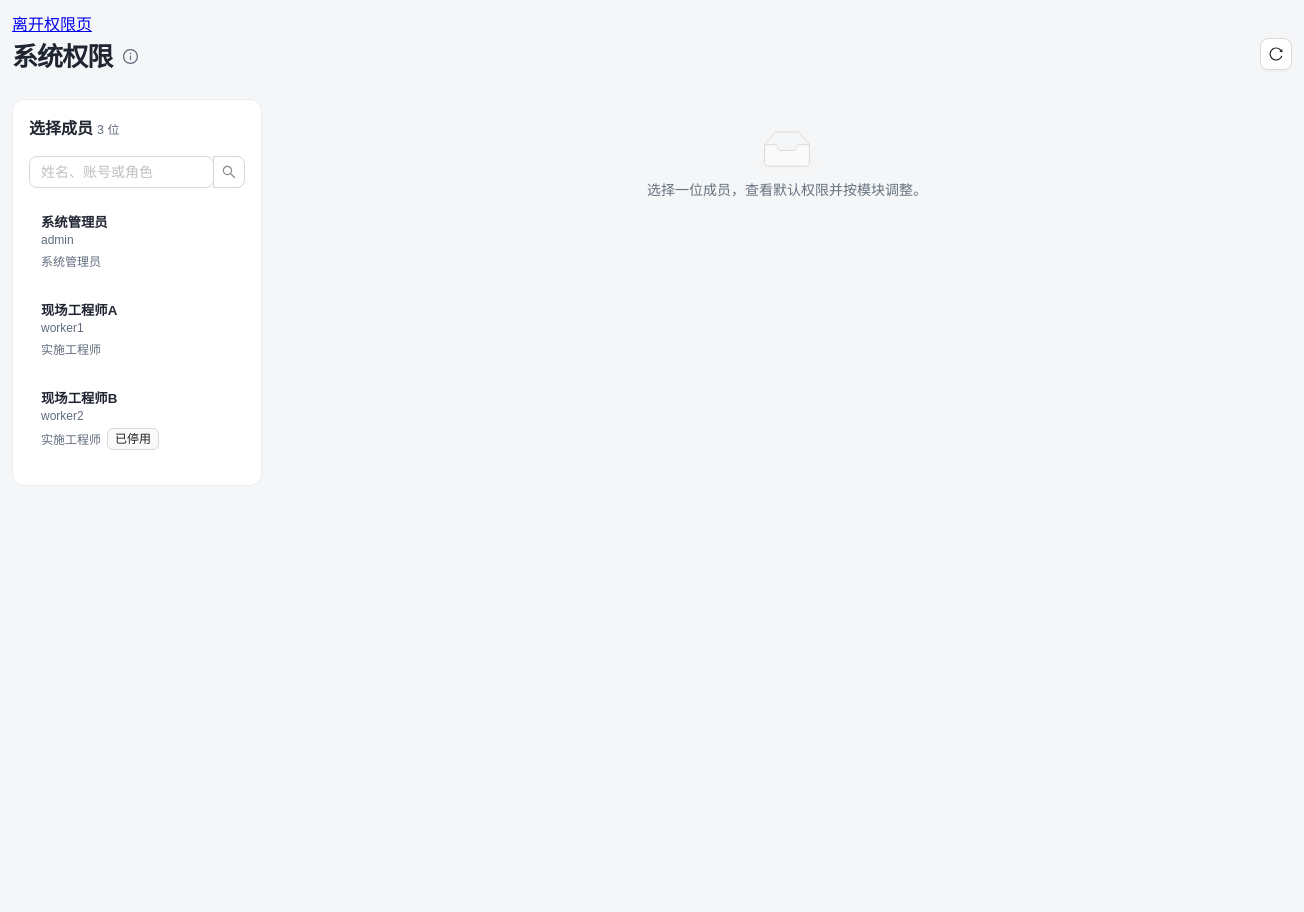
Test: saves all three states with the source version, retaining untouched historical settings
Click the button with aria-label "选择成员：现场工程师A".
click(137, 328)  # box left=29, top=288, right=245, bottom=369
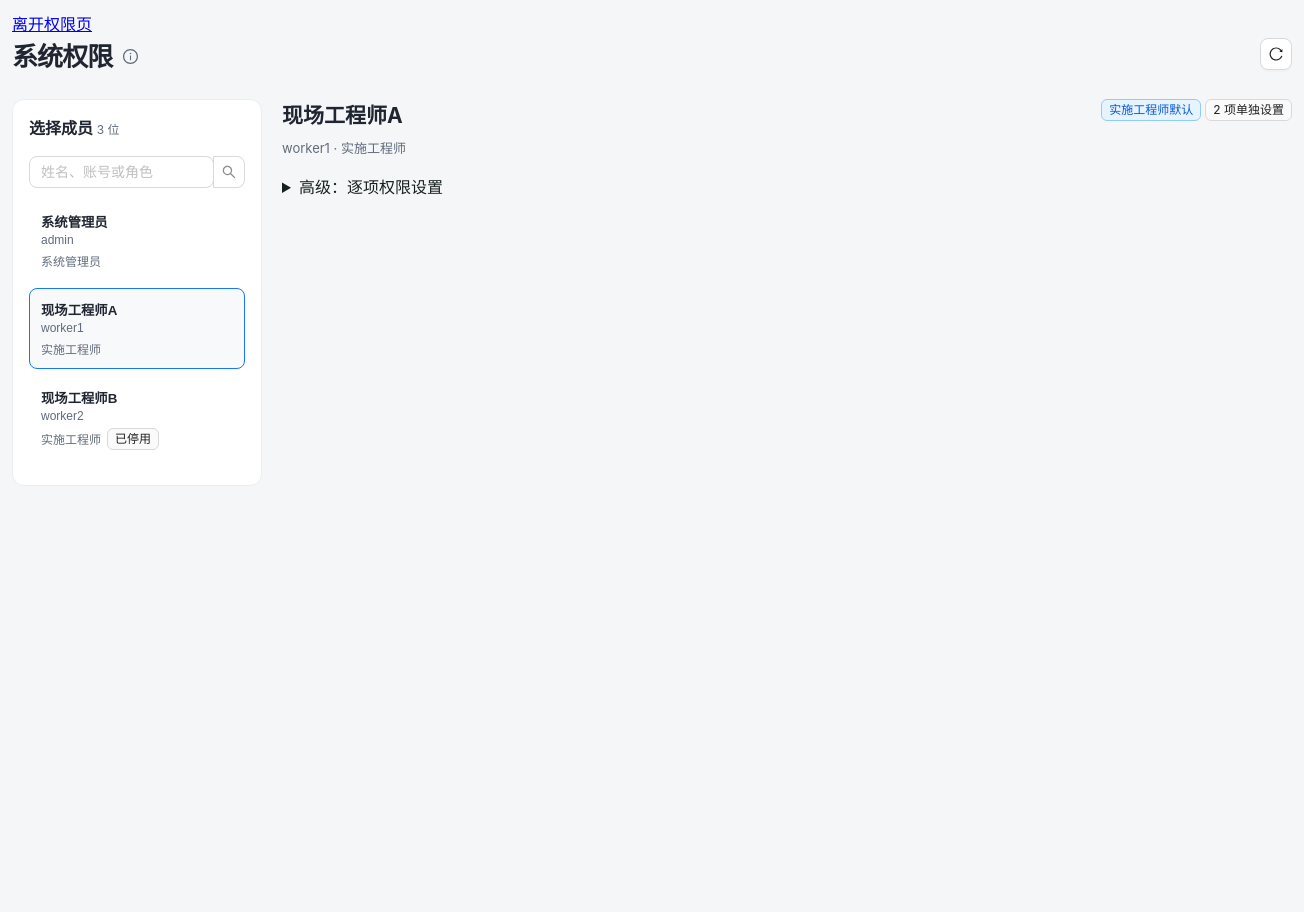
Expected: the heading "现场工程师A" is shown, left=282, top=99, right=406, bottom=133
Click the heading "高级：逐项权限设置".
click(371, 187)  # box left=299, top=177, right=443, bottom=197
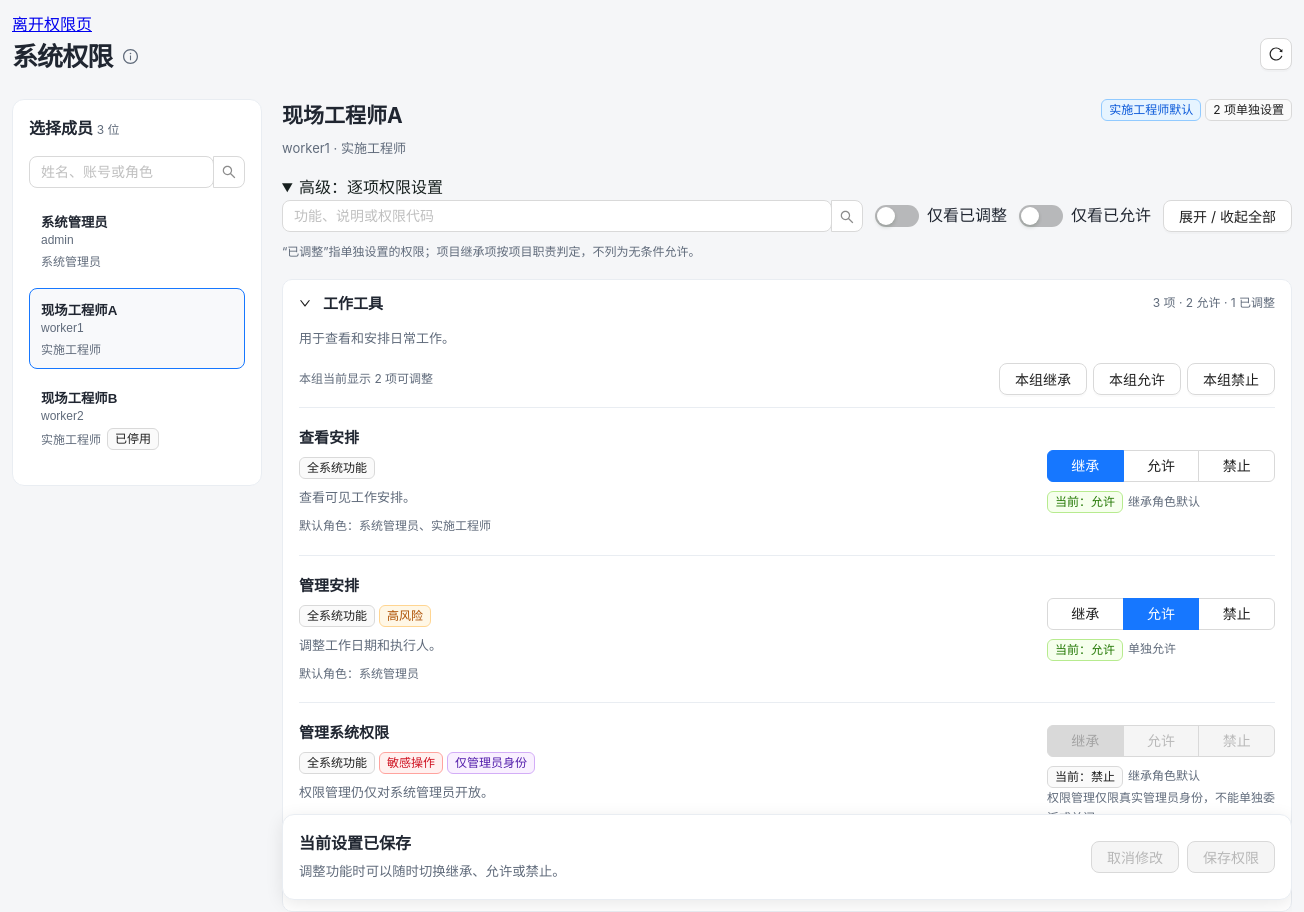
Click the 1st radio button labelled "禁止".
click(1237, 466)  # box left=1198, top=450, right=1275, bottom=482
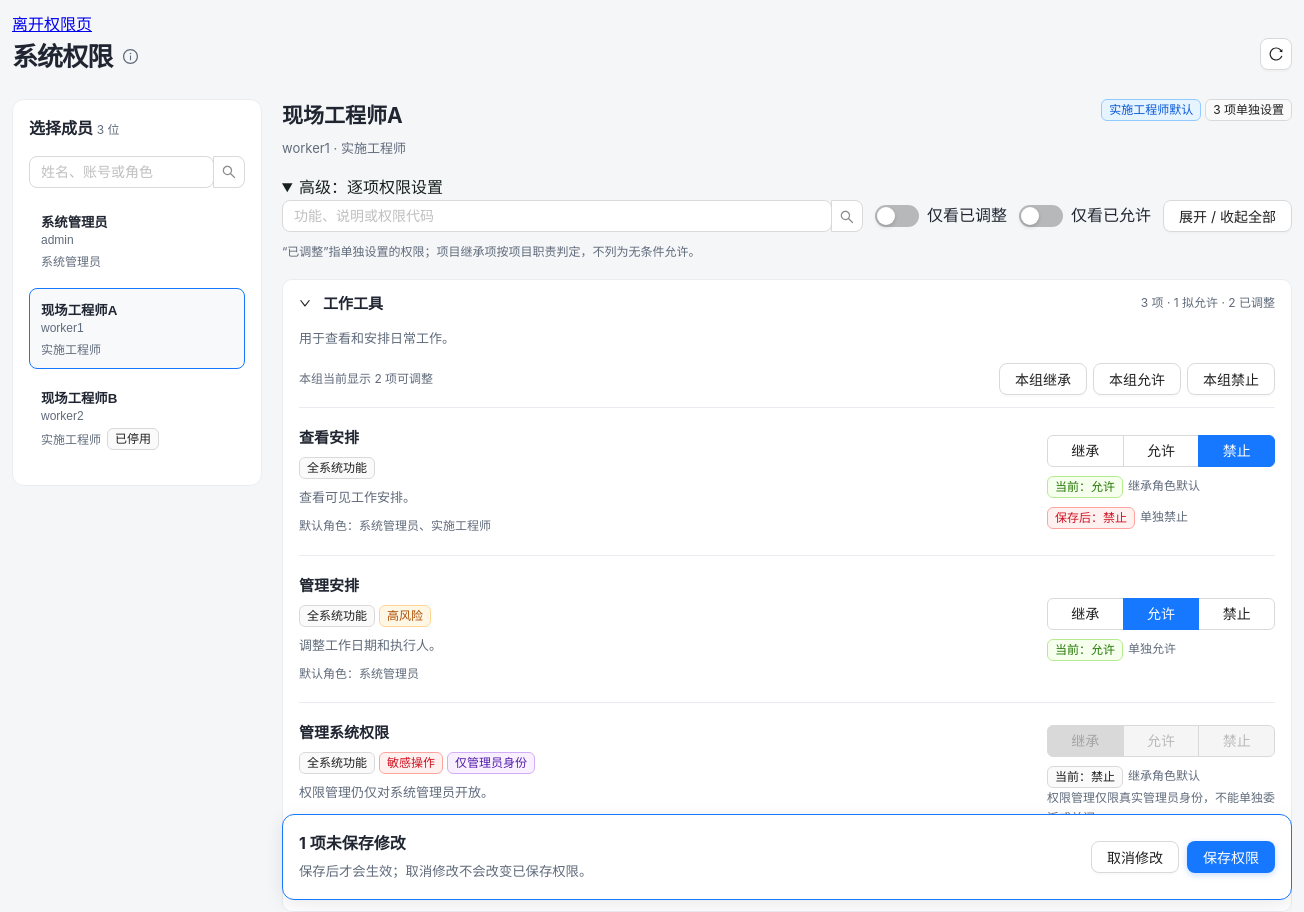
Click the radio button labelled "继承" in the row of "高风险".
click(1085, 614)  # box left=1047, top=598, right=1124, bottom=630
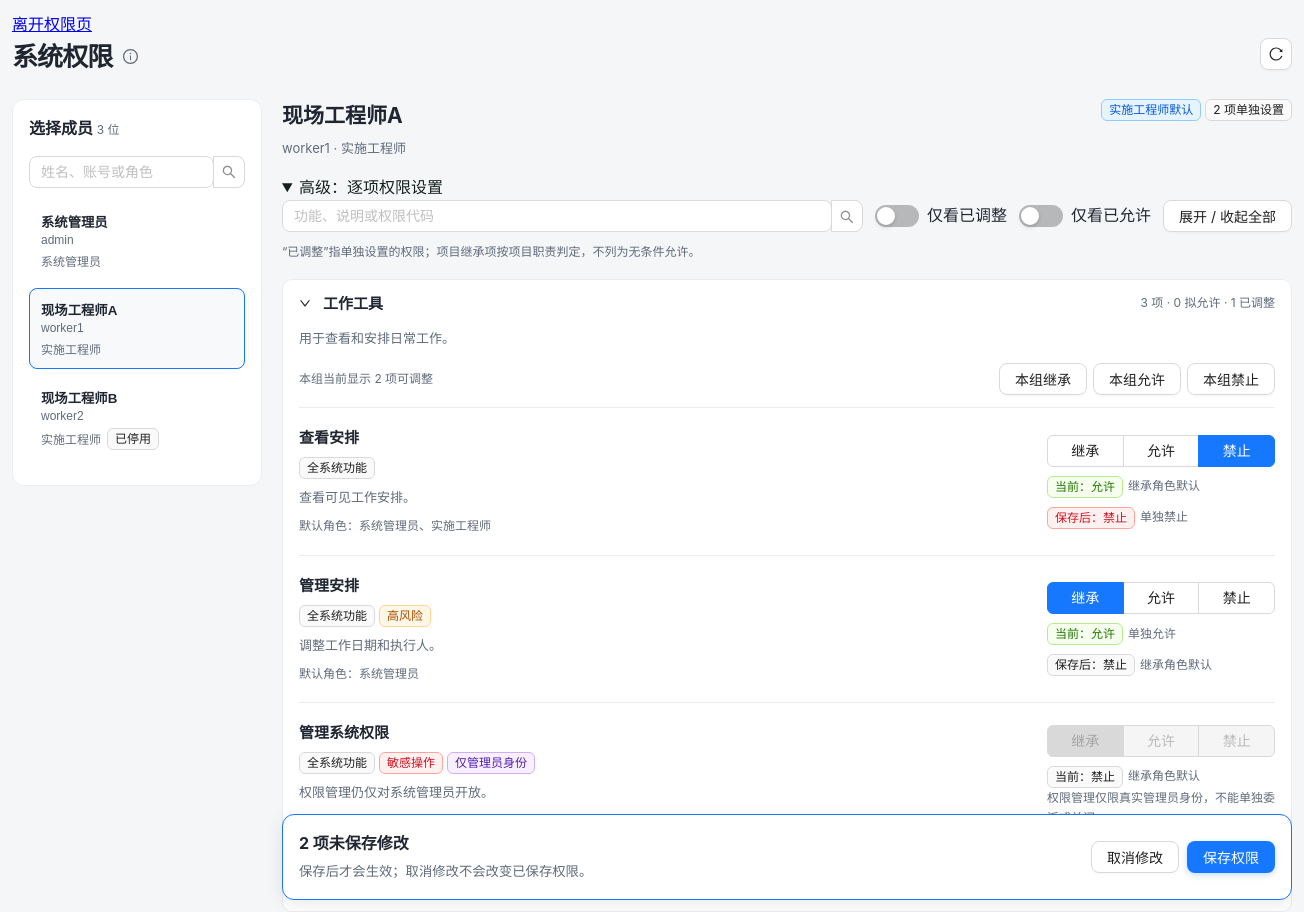
Expected: the element named "权限：查看安排" shows "当前：允许", left=299, top=408, right=1275, bottom=556
Expected: the element named "权限：查看安排" shows "保存后：禁止", left=299, top=408, right=1275, bottom=556
Expected: the text "2 项未保存修改" is shown, left=299, top=833, right=409, bottom=853
Click the button "保存权限".
click(1231, 857)  # box left=1187, top=841, right=1275, bottom=873
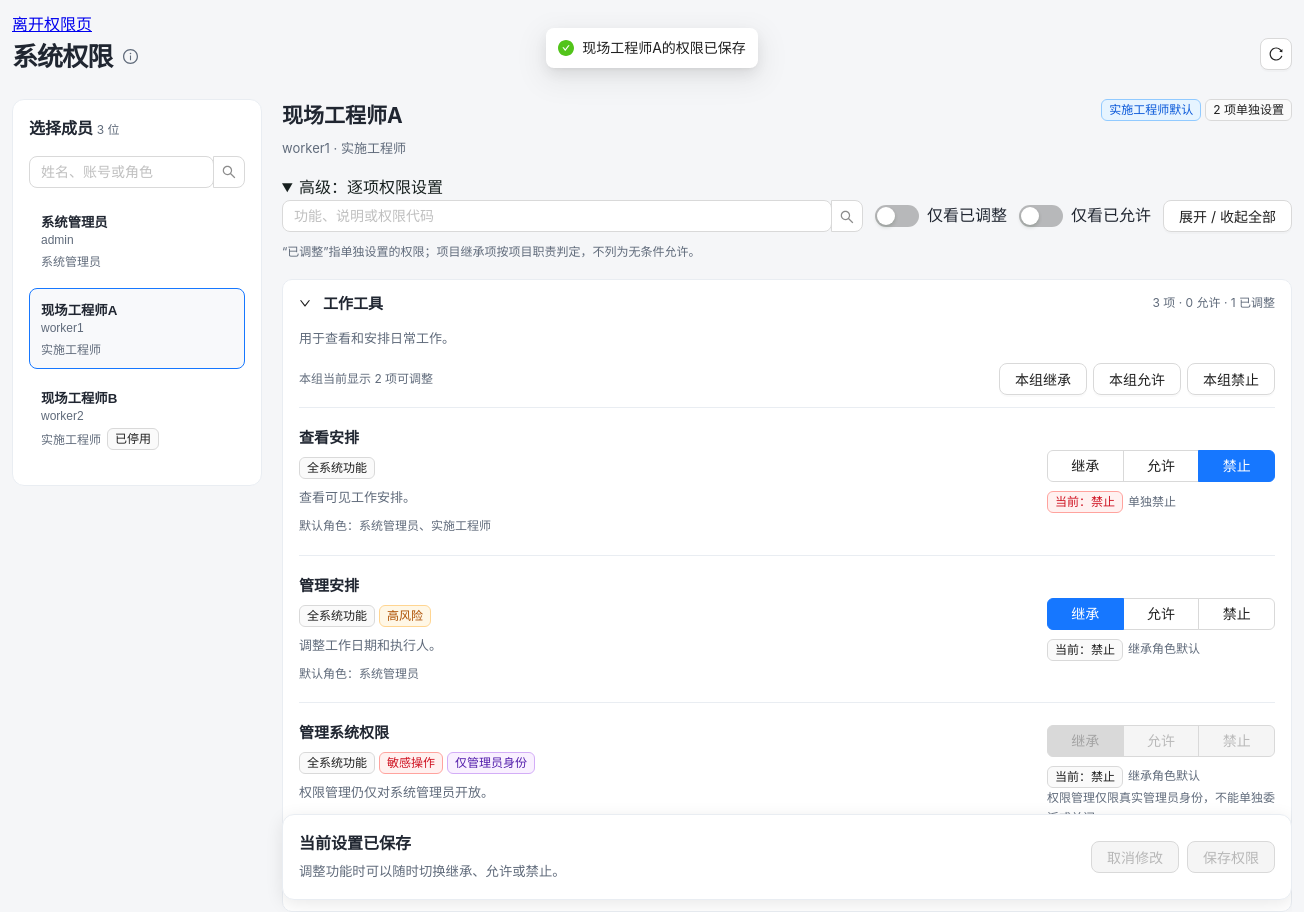
Expected: the button "保存权限" is disabled, left=1187, top=841, right=1275, bottom=873
